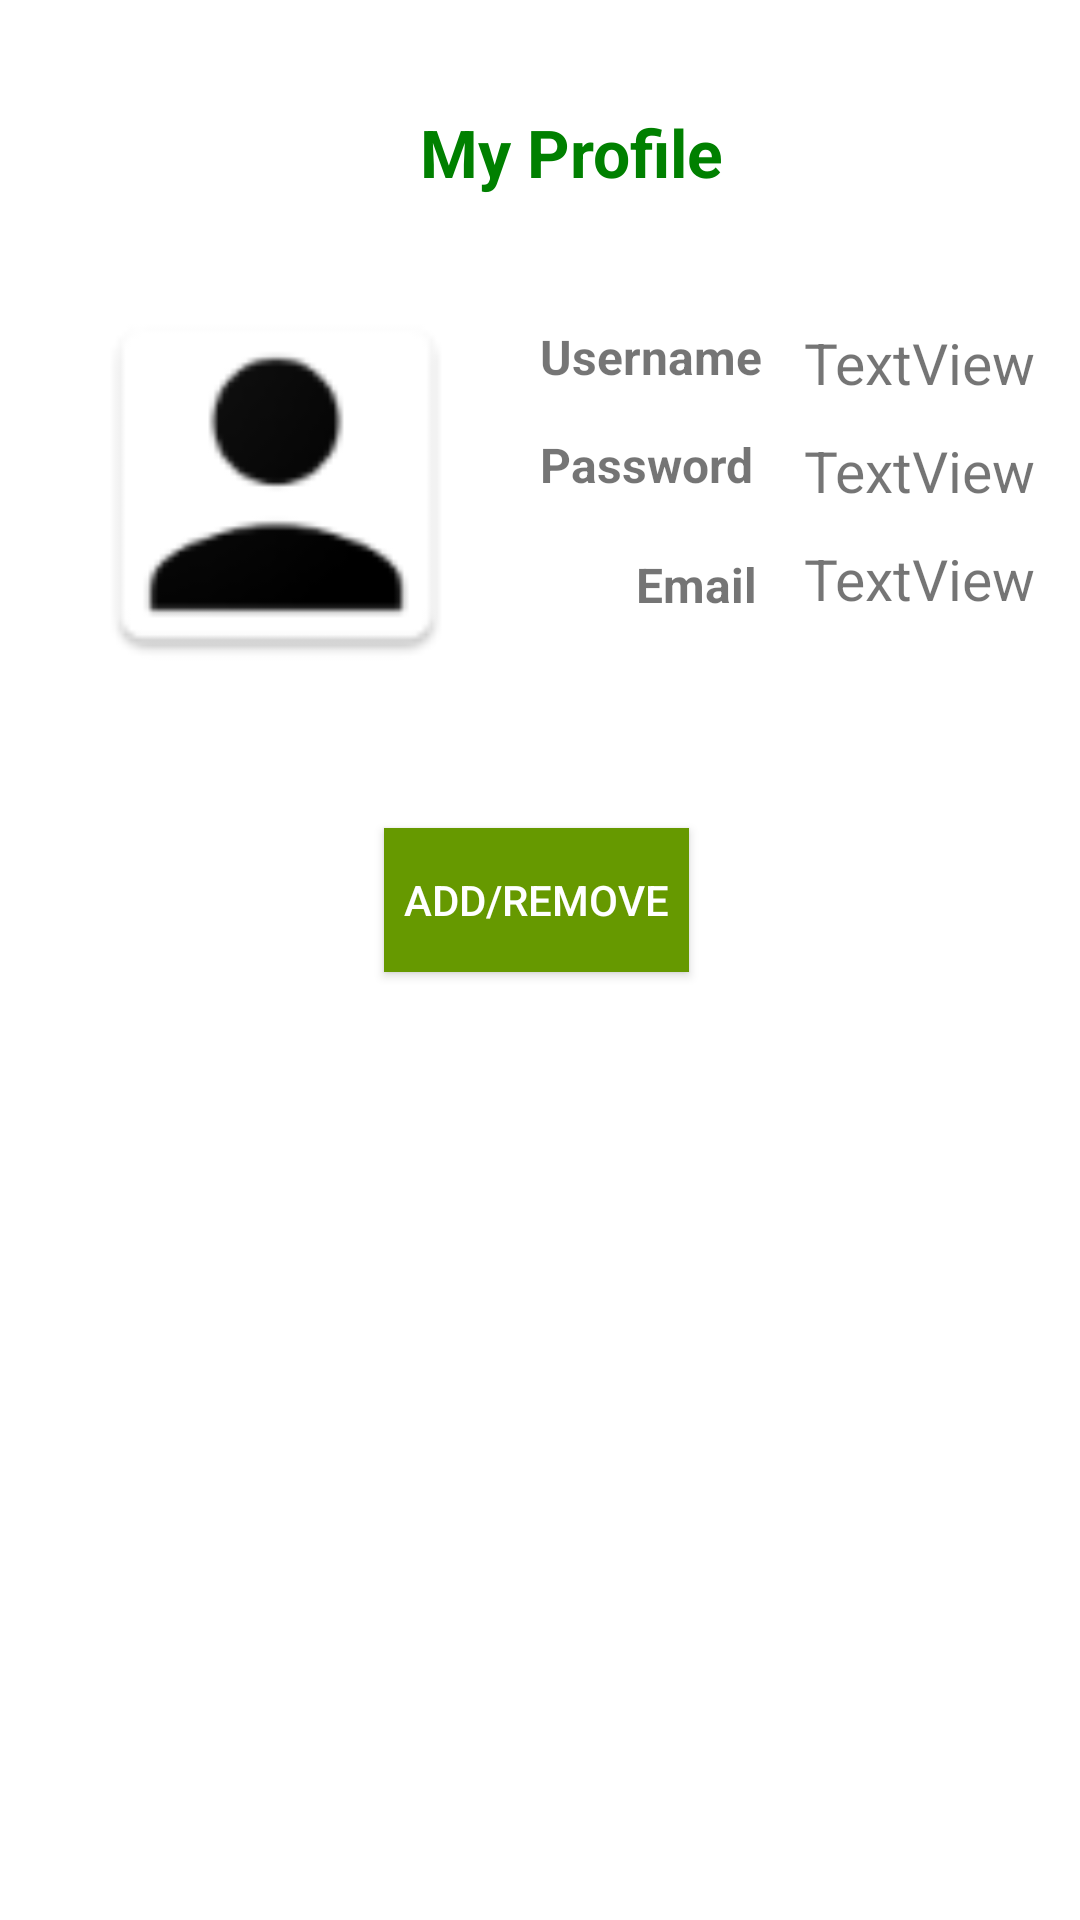

Where icons sit on this 1080w x 1920h app screen, as (x1, y1, x2, y2):
account: (120, 356, 433, 649)
